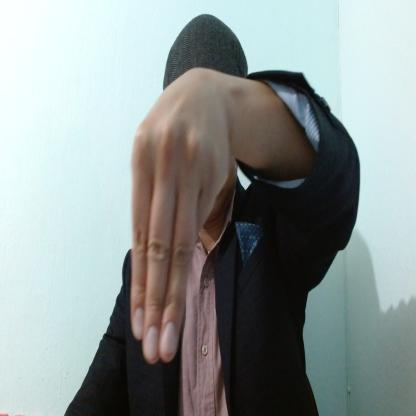M: (130, 70, 229, 364)
